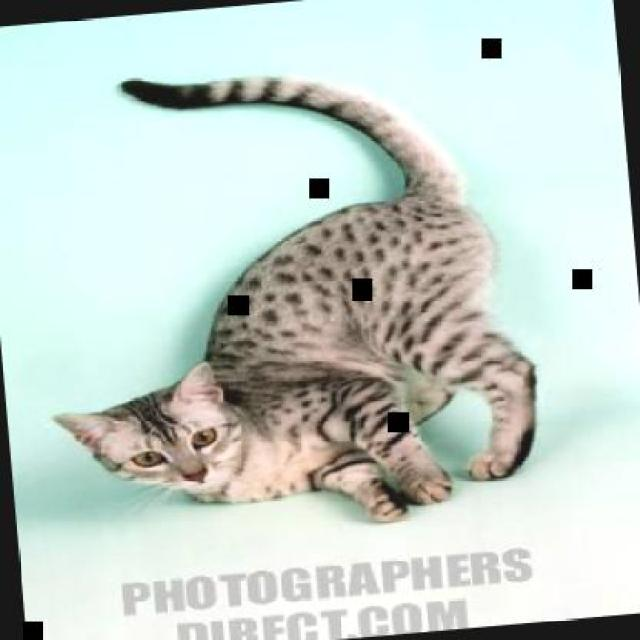cat: (21, 44, 548, 548)
